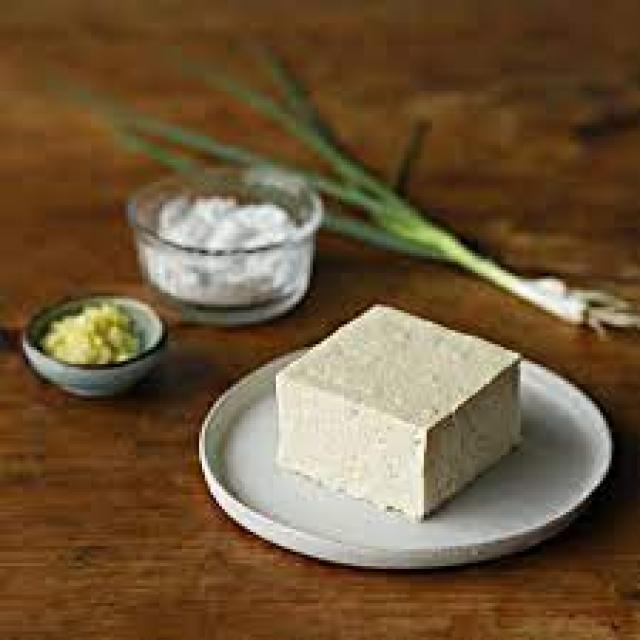tofu: (276, 296, 535, 530)
